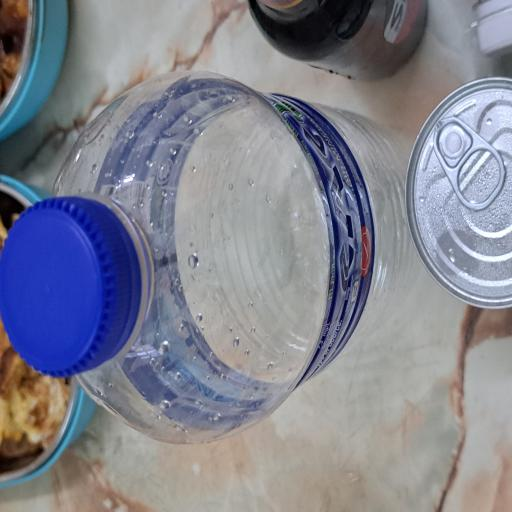glass bottle: (324, 326, 384, 512)
plastic bottle: (50, 70, 329, 512)
plastic bottle cap: (99, 0, 237, 193)
